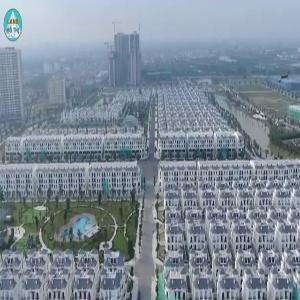drone: (273, 65, 300, 92)
